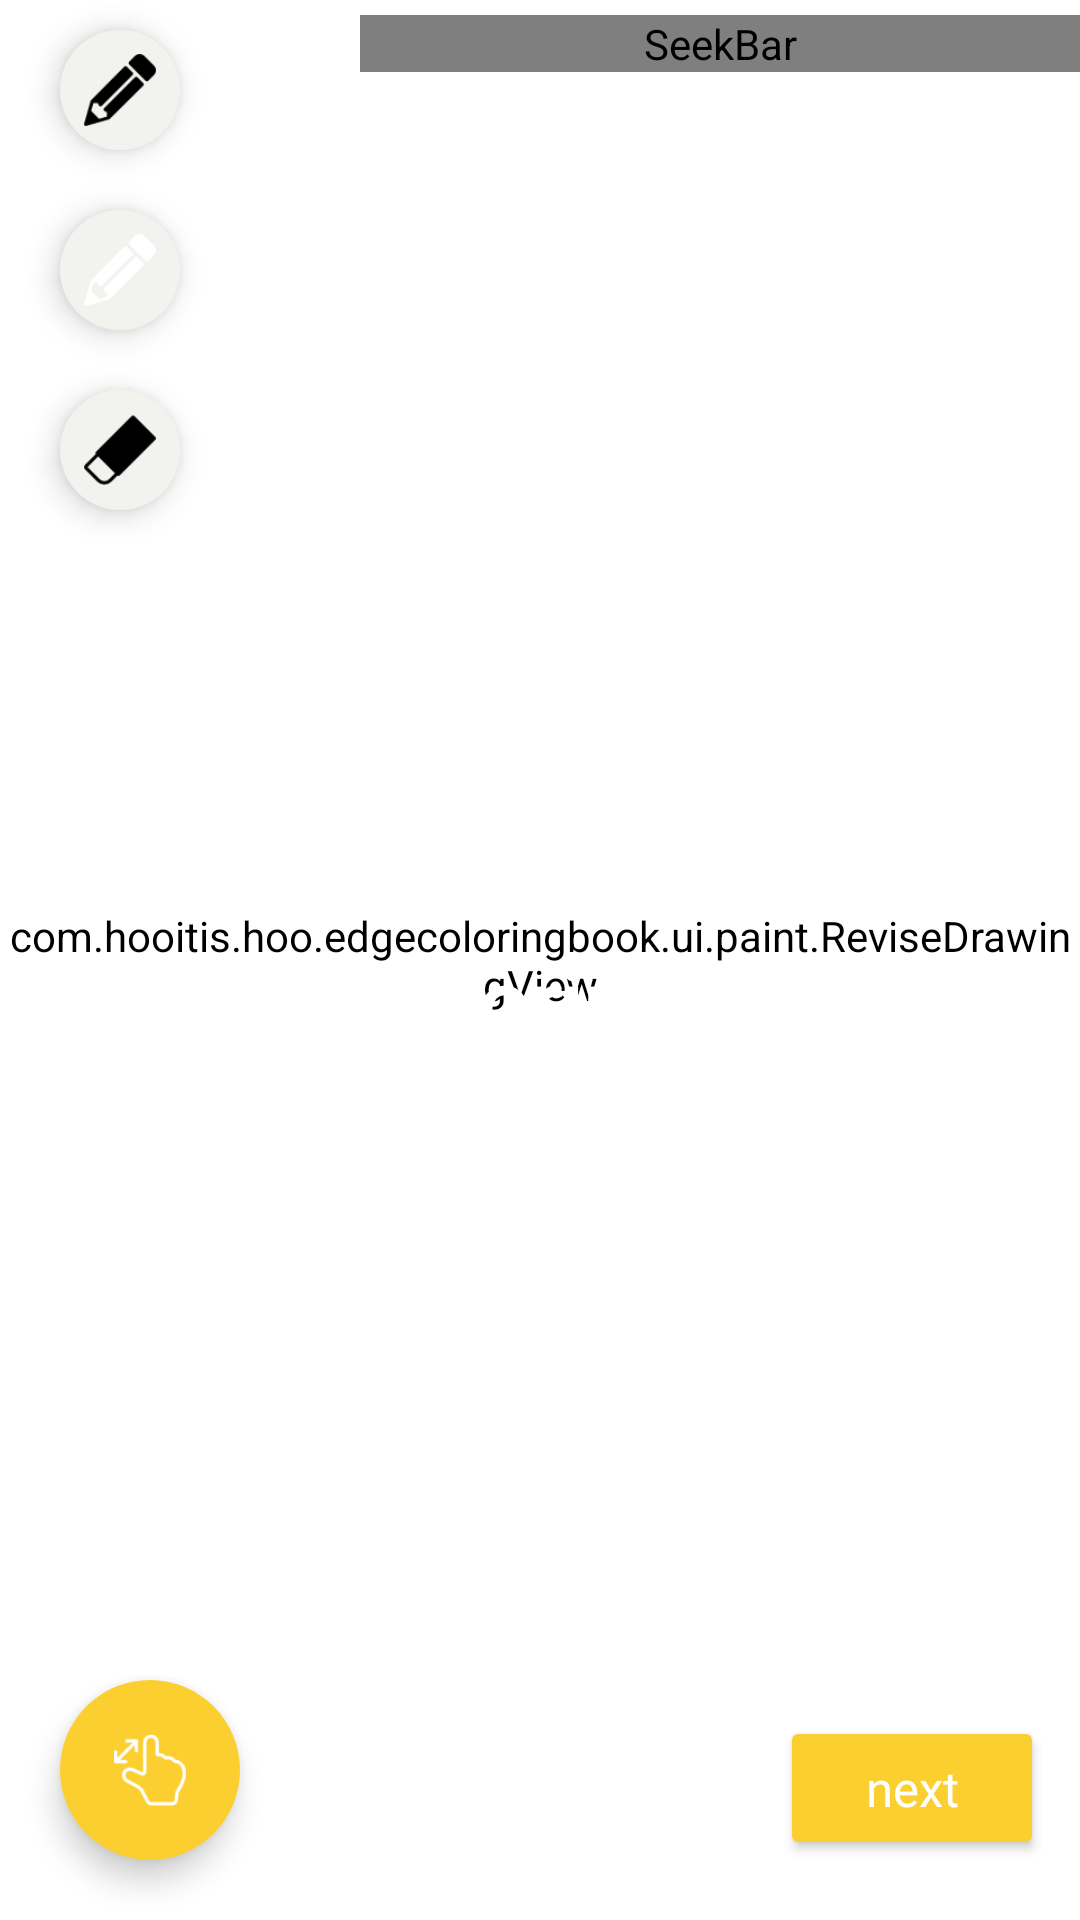

Named icons in this screenshot (1080 x 1920) and their bounding boxes, Rect(x1, y1, x2, y2):
pencil: Rect(60, 30, 180, 150), Rect(60, 210, 180, 330)
zoom: Rect(60, 1680, 240, 1860)
